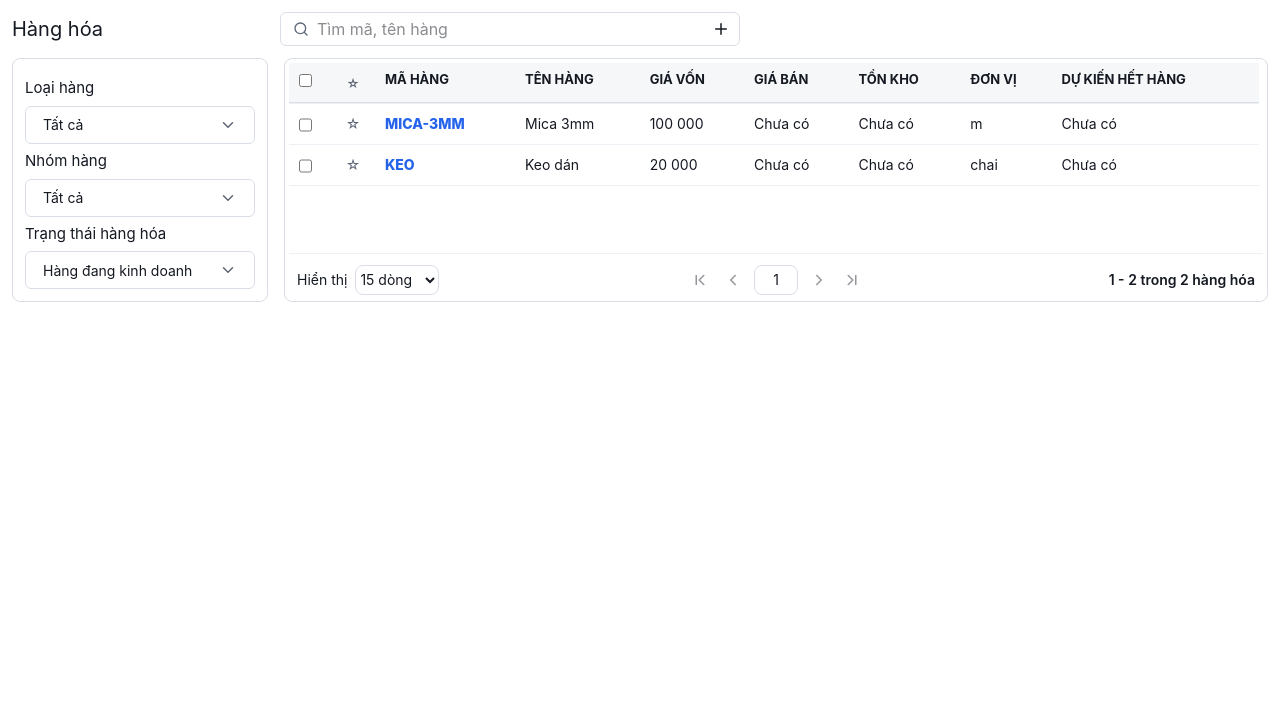
it: switches the shared create product modal for service, roll, sheet, and combo goods
This screenshot has width=1280, height=720.
Expected: the text "MICA-3MM" is shown, 385,114 -> 465,133
Click the button named "Tạo hàng hóa".
click(721, 29)  # box 708,16 -> 734,42
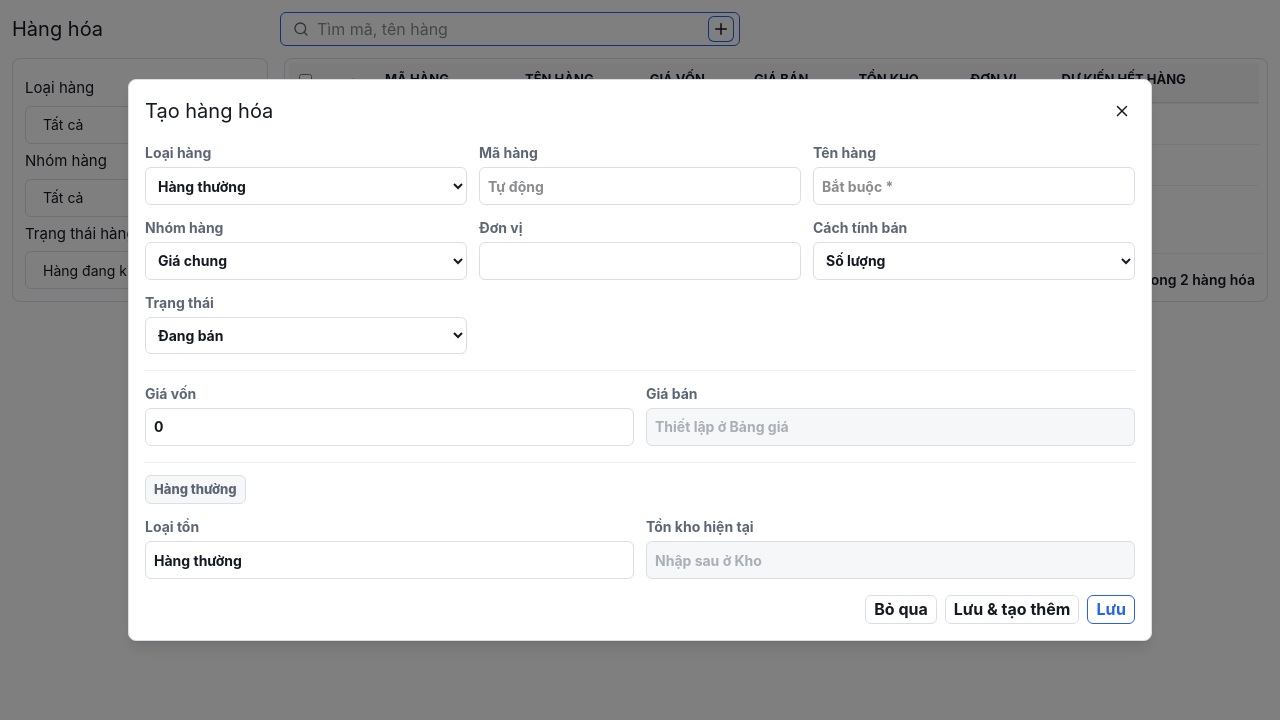
Select "Dịch vụ" in the dropdown labelled "Loại hàng" at x=306, y=186, box 145,167 -> 467,205
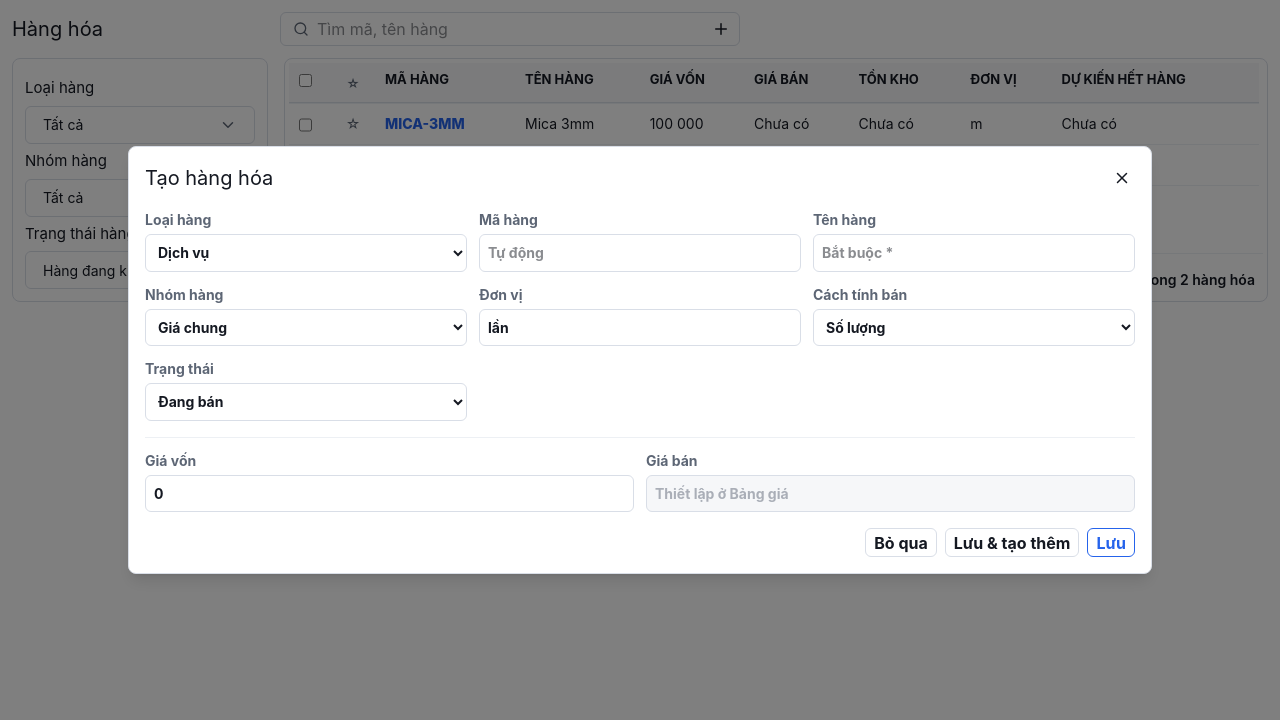
Select "Vật tư phụ" in the dropdown labelled "Loại hàng" at x=306, y=253, box 145,234 -> 467,272
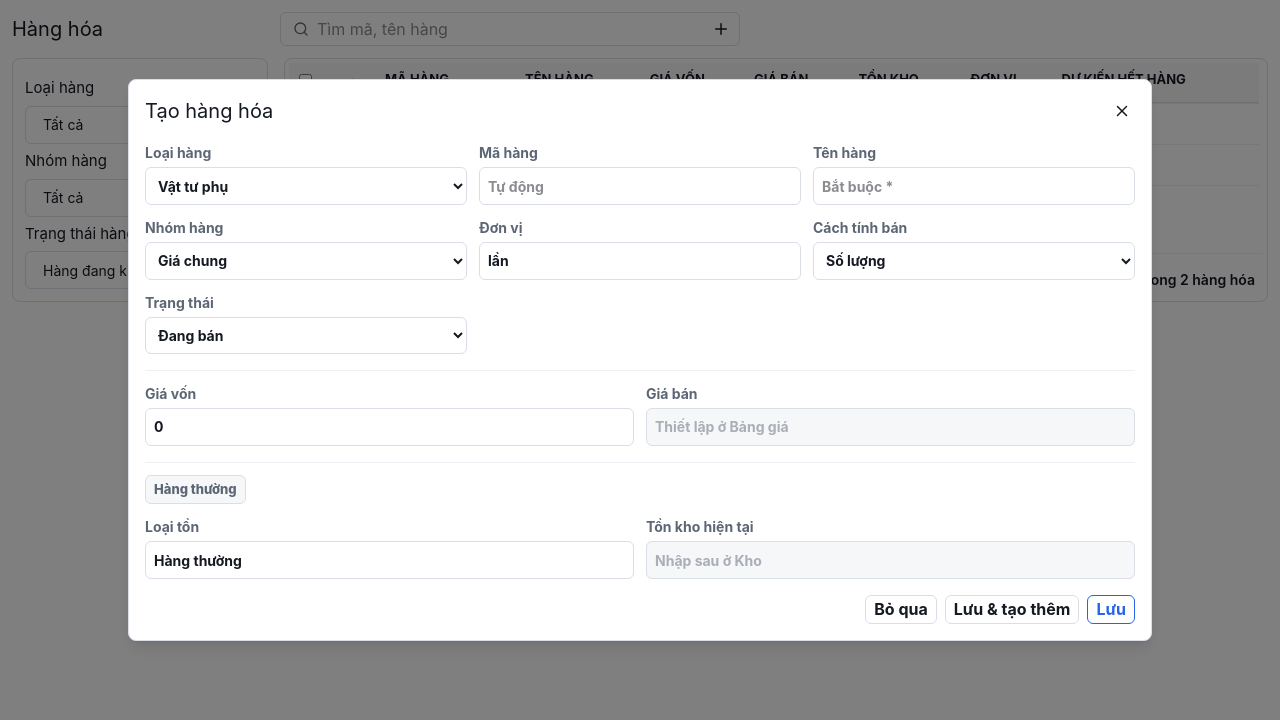
Expected: the dropdown labelled "Cách tính bán" shows "Số lượng", 813,242 -> 1135,280
Expected: the element "Tồn kho" is shown, 145,462 -> 1135,579
Select "Hàng cuộn" in the dropdown labelled "Loại hàng" at x=306, y=186, box 145,167 -> 467,205
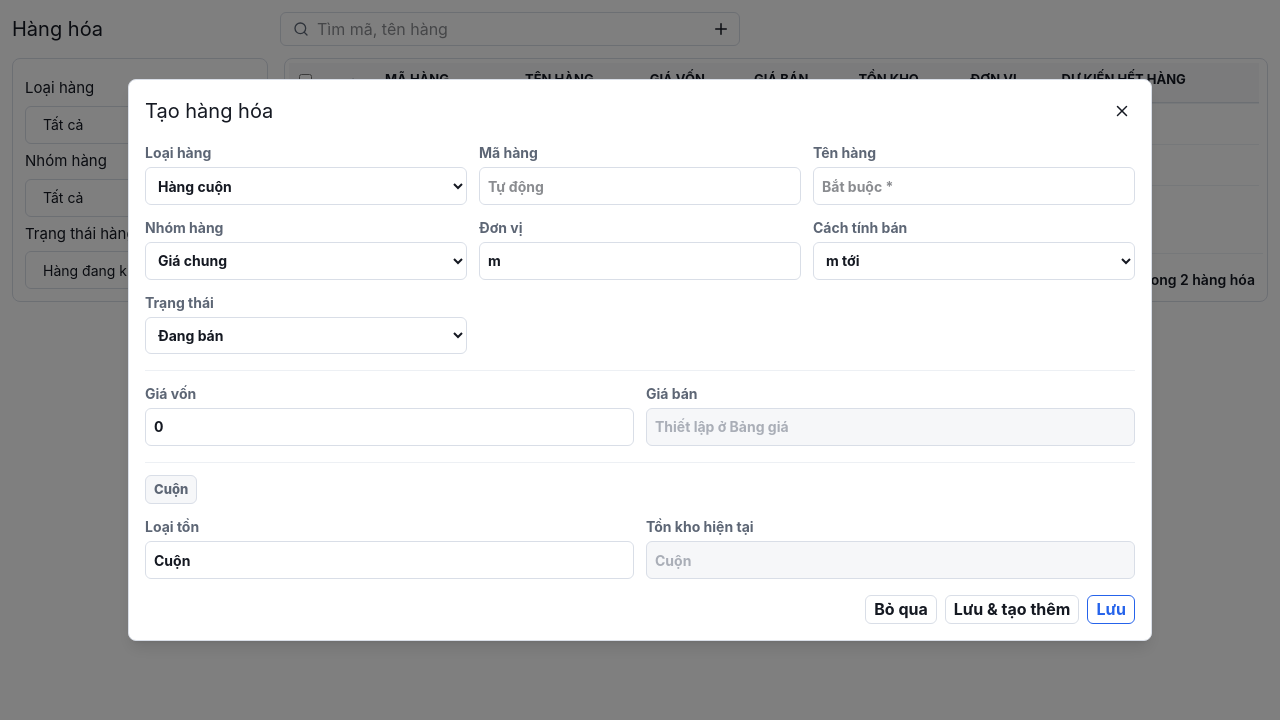
Expected: the dropdown labelled "Cách tính bán" shows "m tới", 813,242 -> 1135,280
Expected: the element "Tồn kho" shows "Cuộn", 154,481 -> 188,497
Select "Hàng tấm" in the dropdown labelled "Loại hàng" at x=306, y=186, box 145,167 -> 467,205
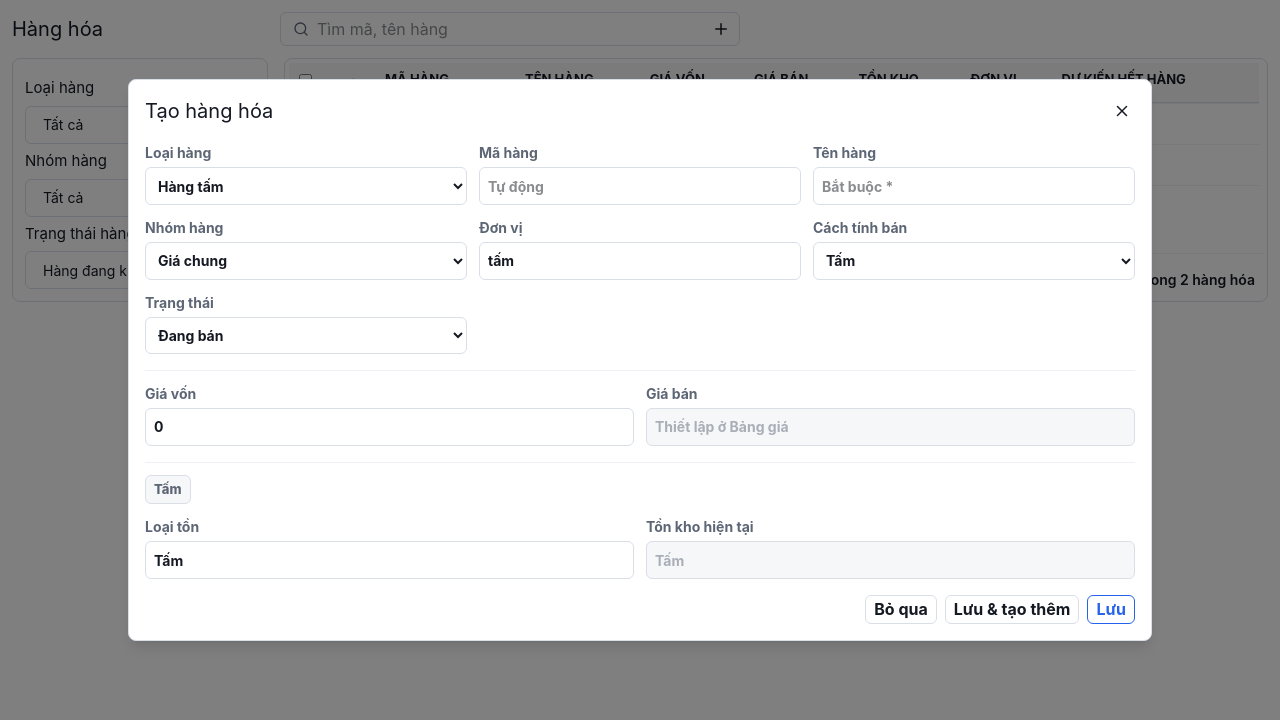
Expected: the dropdown labelled "Cách tính bán" shows "Tấm", 813,242 -> 1135,280
Expected: the element "Tồn kho" shows "Tấm", 154,481 -> 182,497
Select "Combo - đóng gói" in the dropdown labelled "Loại hàng" at x=306, y=186, box 145,167 -> 467,205
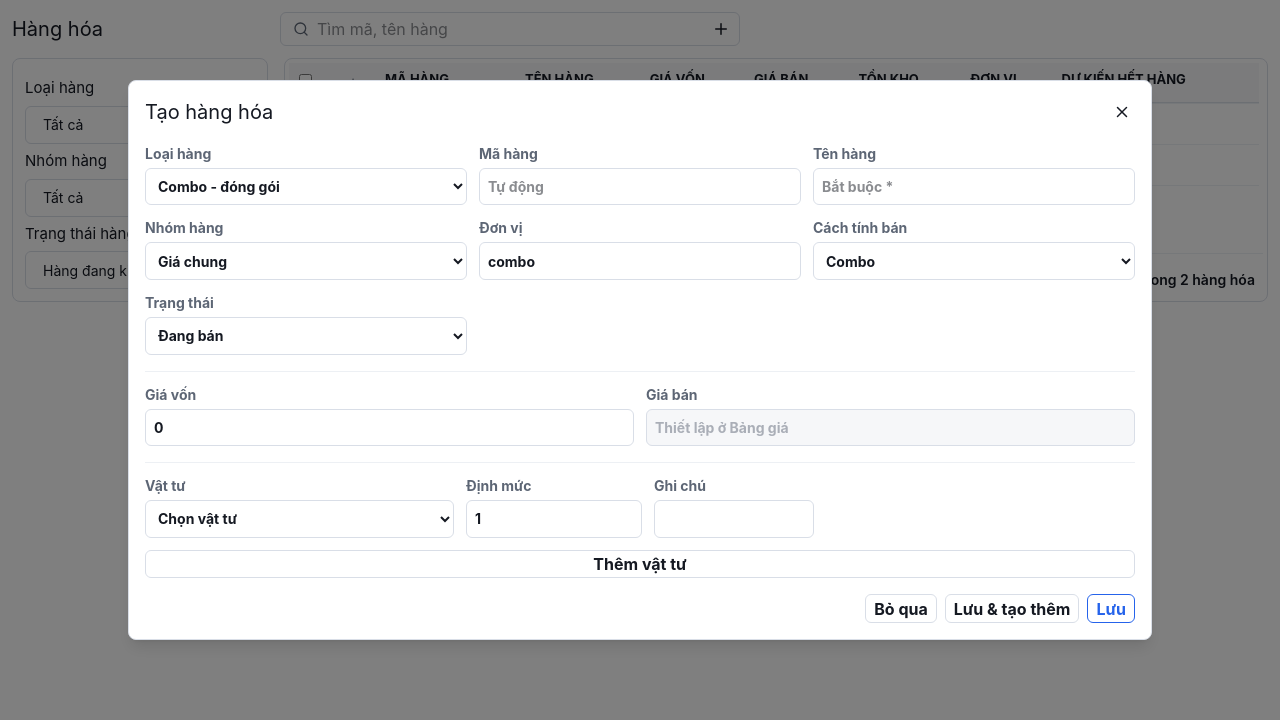
Expected: the dropdown labelled "Cách tính bán" shows "Combo", 813,242 -> 1135,280
Expected: the element named "Vật tư cấu thành" is shown, 145,462 -> 1135,578
